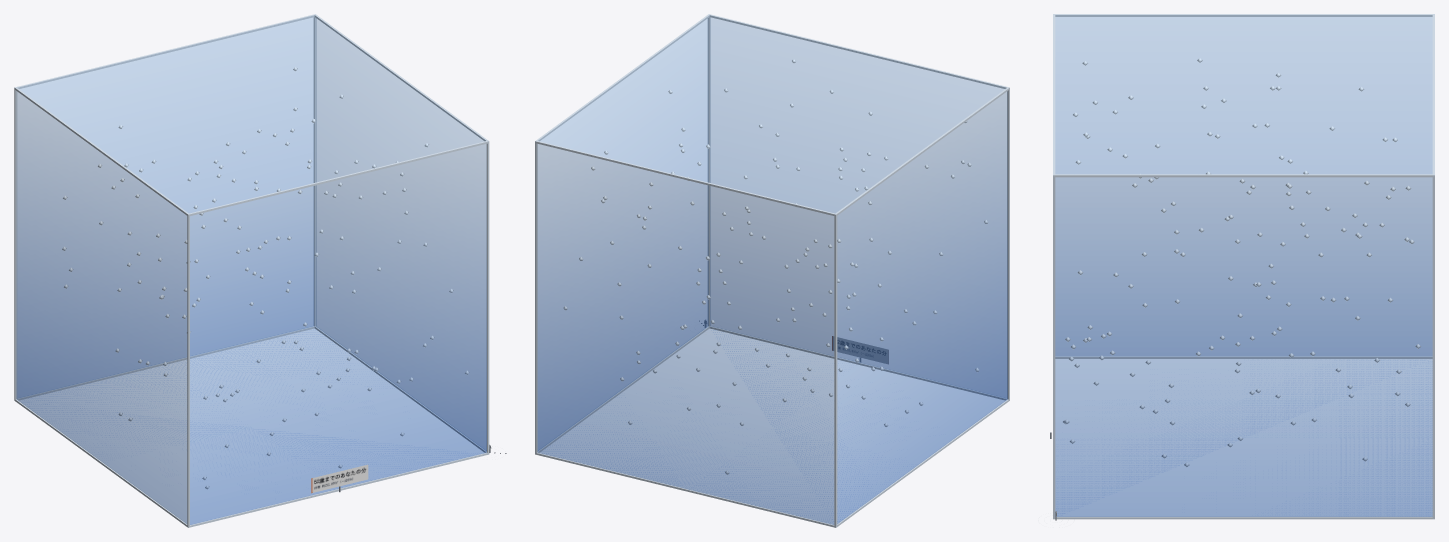
Rendered from cube_life_52.glb.
3 views of the same model, side by side, from view 1: azimuth 30°, elevation 25°; view 2: azimuth 150°, elevation 25°; view 3: azimuth 270°, elevation 25° (orthographic). The views are drawn at different scales.
Visible parts, largest first — view 1: co2, edge, dots, label; view 2: co2, edge, dots, label; view 3: co2, edge, dots.
Boxes of the visible parts, x1,y1,x2,y2 form: co2: (16, 15, 486, 524); edge: (14, 14, 489, 527); dots: (62, 67, 469, 489); label: (311, 464, 368, 493); co2: (537, 15, 1007, 524); edge: (535, 14, 1009, 527); dots: (563, 59, 988, 474); label: (832, 336, 888, 364); co2: (1055, 15, 1432, 516); edge: (1053, 14, 1434, 519); dots: (1063, 58, 1420, 467).
Bounding box in the file's own units: 66.93 × 63.17 × 66.03.
Materials: 8 (3 with a texture image).
